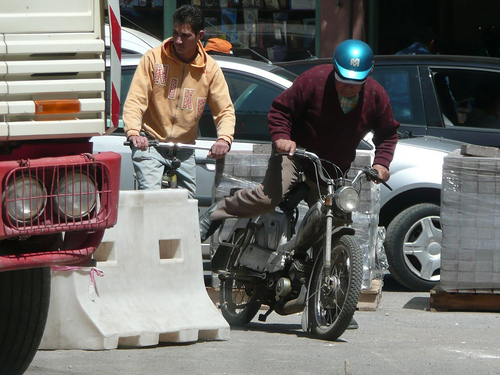helmet: (336, 39, 372, 73)
